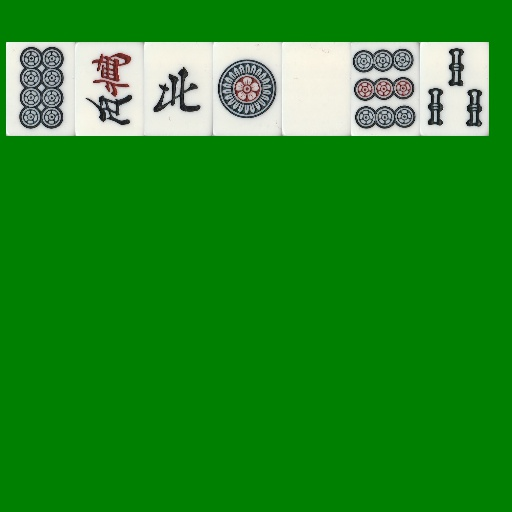1p: (213, 42, 282, 136)
3s: (420, 42, 489, 136)
5m: (75, 42, 144, 136)
8p: (6, 42, 75, 136)
9p: (351, 42, 420, 136)
north: (144, 42, 213, 136)
white: (282, 42, 351, 136)
